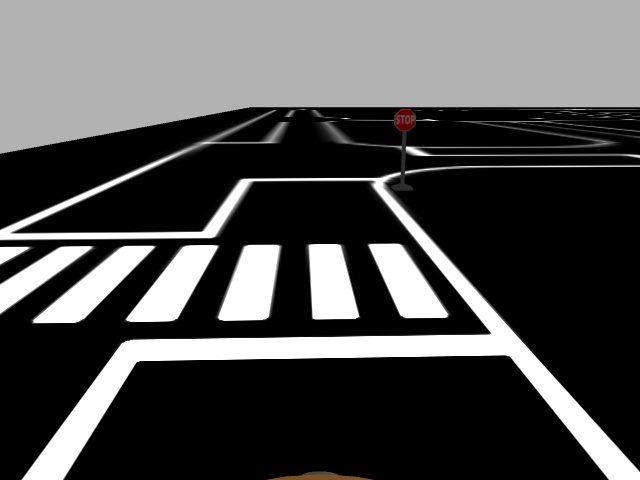stop: (392, 108, 417, 131)
